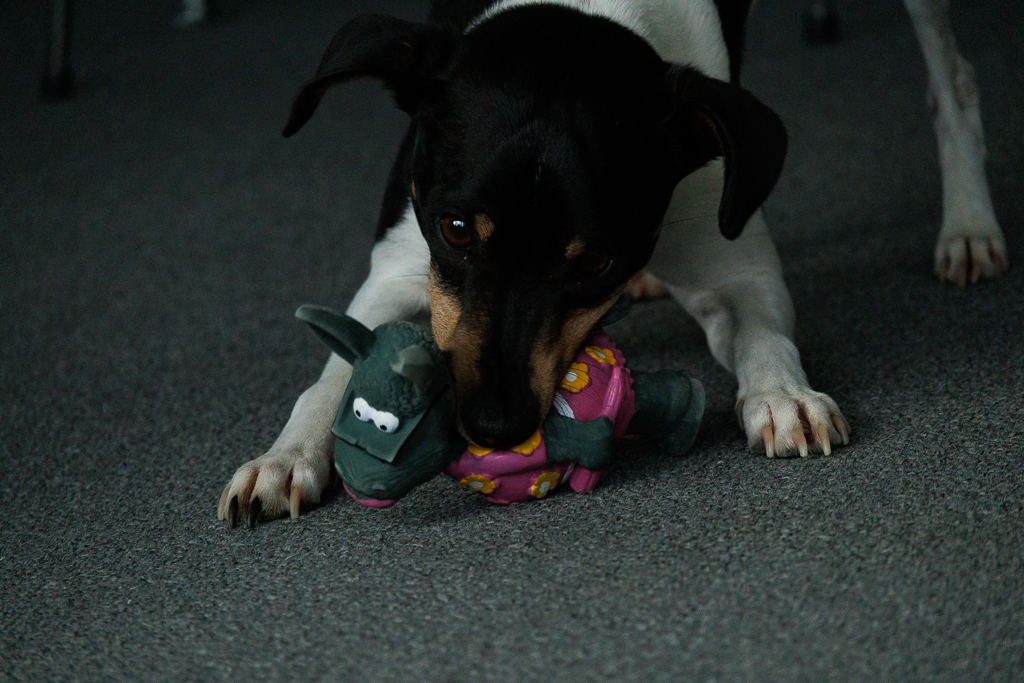Dog: (190, 0, 1024, 546)
Humanoid: (279, 270, 738, 528)
